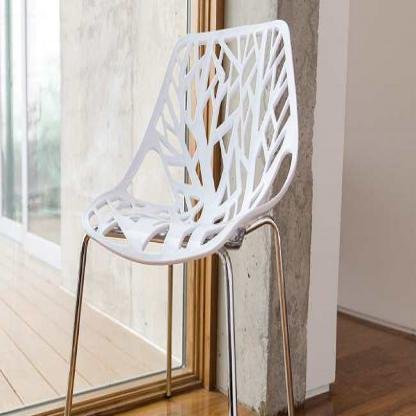chair: (63, 20, 306, 416)
